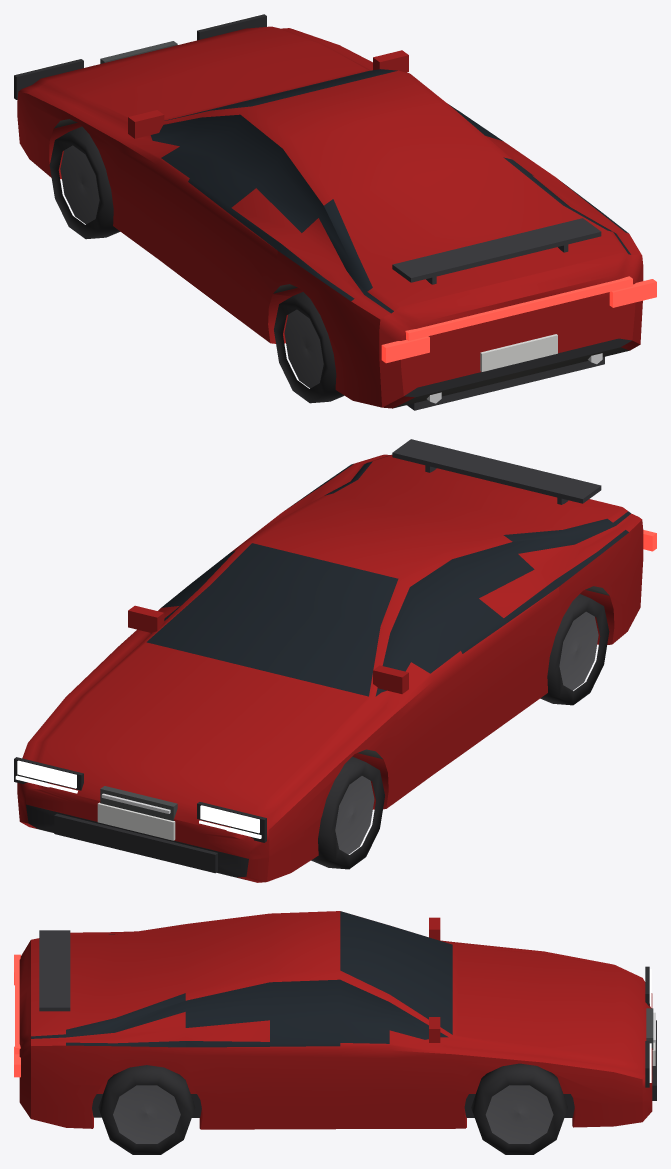
The model's file is coupe_lod1.glb.
3 renders of one model, top to bottom at view 1: azimuth 30°, elevation 25°; view 2: azimuth 150°, elevation 25°; view 3: azimuth 270°, elevation 25°, orthographic. The views are drawn at different scales.
Parts seen in each view (by area): view 1: body, wheel_fl, wheel_rl; view 2: body, wheel_fl, wheel_rl; view 3: body, wheel_fr, wheel_rr.
Part boxes in pixels (x1,y1,x2,y2): body: (14, 14, 656, 410); wheel_fl: (49, 126, 120, 239); wheel_rl: (274, 292, 344, 403); body: (14, 439, 656, 882); wheel_fl: (311, 756, 384, 869); wheel_rl: (540, 594, 609, 705); body: (14, 911, 656, 1129); wheel_fr: (471, 1063, 567, 1154); wheel_rr: (98, 1065, 195, 1154).
Bounding box in the file's own units: 1.93 × 1.25 × 4.57.
Materials: 2 (1 with a texture image).
